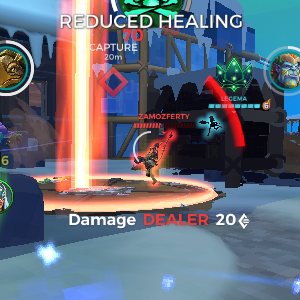model: (139, 130, 173, 185)
